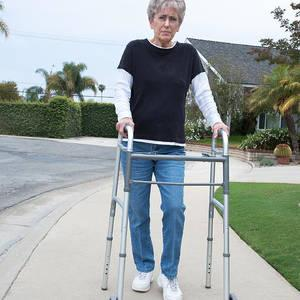walking_frame: (101, 0, 237, 300)
